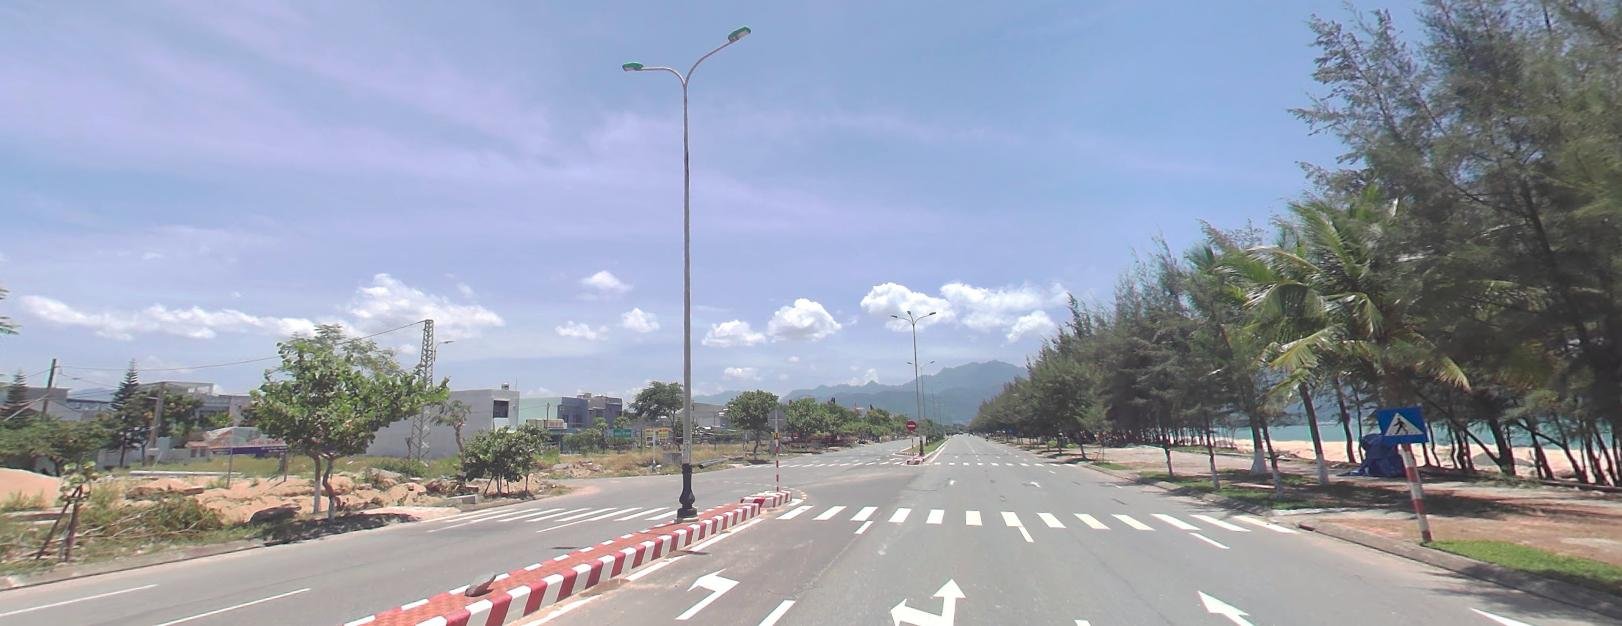Cam nguoc chieu: (905, 419, 917, 428)
